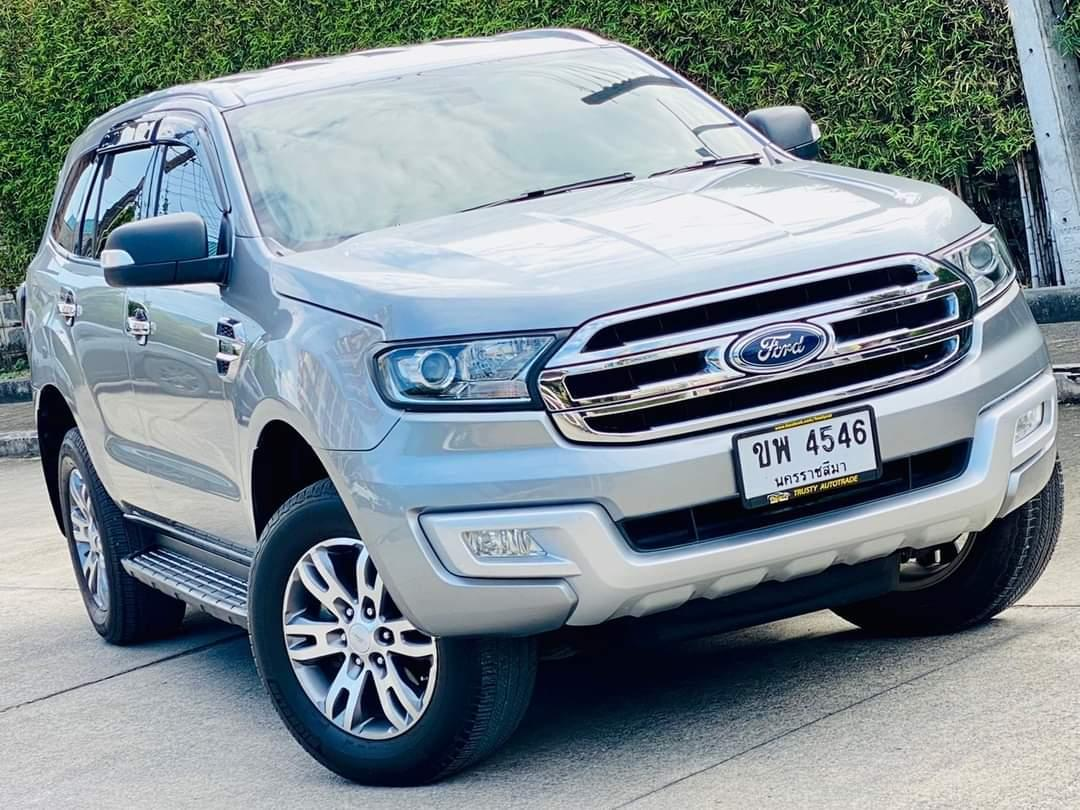license-plate: (730, 401, 888, 519)
